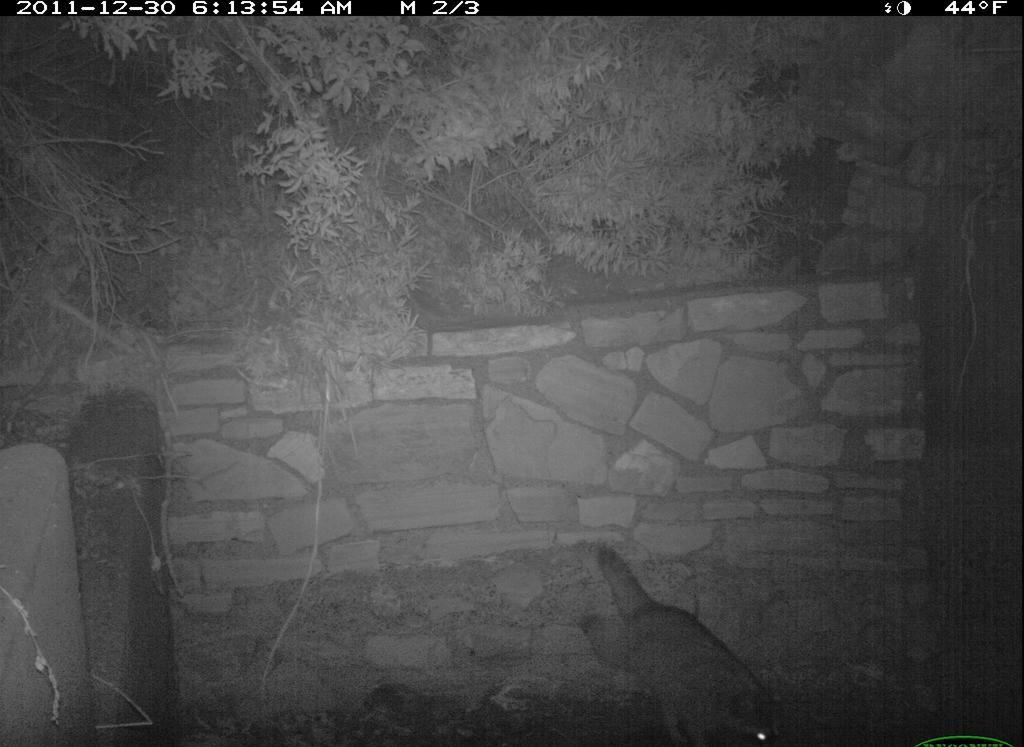raccoon: (534, 506, 811, 747)
